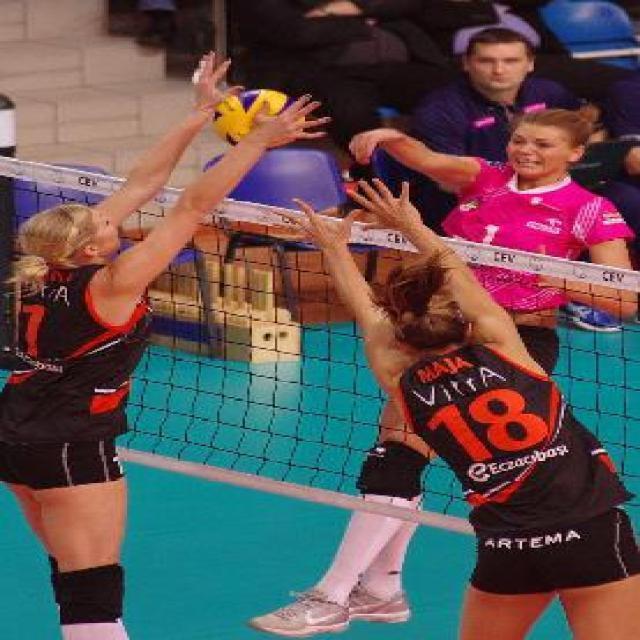volleyball: (212, 90, 296, 144)
